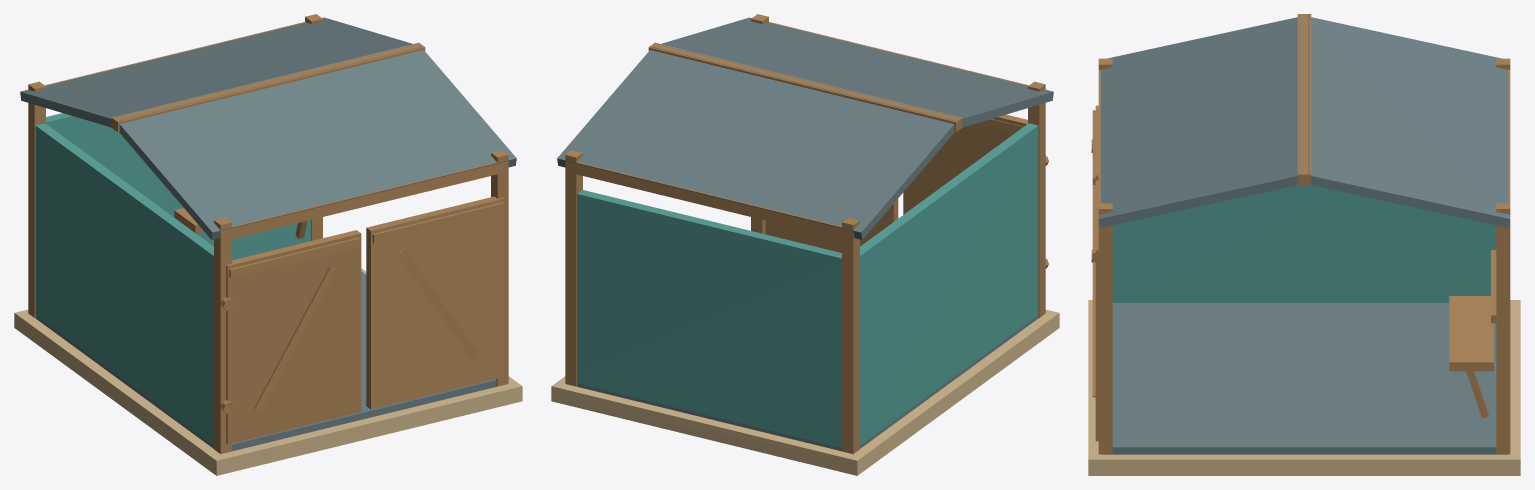
The model's file is Tractor-Shed.glb.
3 renders of one model, left to right at view 1: azimuth 30°, elevation 25°; view 2: azimuth 150°, elevation 25°; view 3: azimuth 270°, elevation 25°, orthographic. The views are drawn at different scales.
Parts seen in each view (by area): view 1: tractor-shed-static-tractor-shed-galvanized-roof, tractor-shed-static-tractor-shed-muted-teal-gates, tractor-shed-static-tractor-shed-pale-wall-panel, tractor-shed-static-tractor-shed-dark-frame, tractor-shed-static-tractor-shed-warm-stone; view 2: tractor-shed-static-tractor-shed-pale-wall-panel, tractor-shed-static-tractor-shed-galvanized-roof, tractor-shed-static-tractor-shed-dark-frame, tractor-shed-static-tractor-shed-warm-stone, tractor-shed-static-tractor-shed-muted-teal-gates; view 3: tractor-shed-static-tractor-shed-galvanized-roof, tractor-shed-static-tractor-shed-pale-wall-panel, tractor-shed-static-tractor-shed-dark-frame, tractor-shed-static-tractor-shed-warm-stone, tractor-shed-static-tractor-shed-muted-teal-gates.
Boxes of the visible parts, left/top/right/bottom form: tractor-shed-static-tractor-shed-galvanized-roof: left=20, top=17, right=516, bottom=451; tractor-shed-static-tractor-shed-muted-teal-gates: left=174, top=196, right=504, bottom=444; tractor-shed-static-tractor-shed-pale-wall-panel: left=35, top=113, right=310, bottom=445; tractor-shed-static-tractor-shed-dark-frame: left=28, top=14, right=508, bottom=454; tractor-shed-static-tractor-shed-warm-stone: left=14, top=268, right=522, bottom=475; tractor-shed-static-tractor-shed-pale-wall-panel: left=577, top=123, right=1038, bottom=447; tractor-shed-static-tractor-shed-galvanized-roof: left=557, top=17, right=1053, bottom=451; tractor-shed-static-tractor-shed-dark-frame: left=565, top=14, right=1048, bottom=454; tractor-shed-static-tractor-shed-warm-stone: left=551, top=309, right=1059, bottom=475; tractor-shed-static-tractor-shed-muted-teal-gates: left=765, top=114, right=1027, bottom=252; tractor-shed-static-tractor-shed-galvanized-roof: left=1098, top=14, right=1510, bottom=454; tractor-shed-static-tractor-shed-pale-wall-panel: left=1112, top=185, right=1496, bottom=302; tractor-shed-static-tractor-shed-dark-frame: left=1091, top=14, right=1510, bottom=454; tractor-shed-static-tractor-shed-warm-stone: left=1088, top=300, right=1520, bottom=475; tractor-shed-static-tractor-shed-muted-teal-gates: left=1095, top=105, right=1493, bottom=441.
Bounding box in the file's own units: 3.82 × 3.35 × 4.35.
